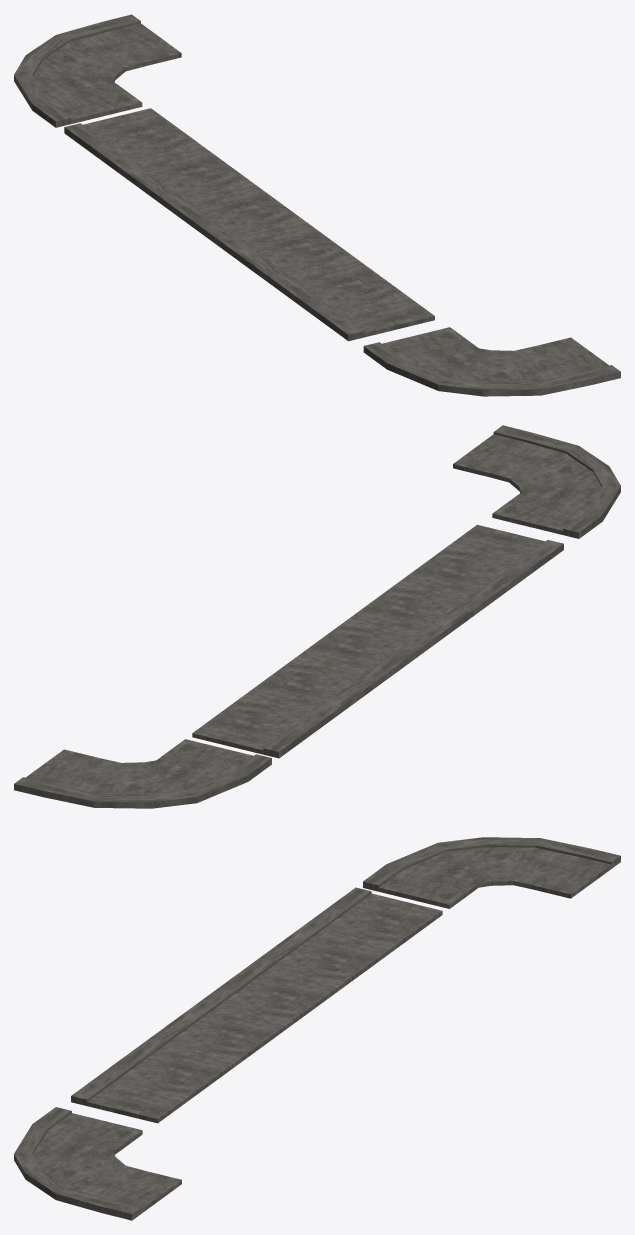
File: sidewalksFBX.fbx
3 renders of one model, top to bottom at view 1: azimuth 30°, elevation 25°; view 2: azimuth 150°, elevation 25°; view 3: azimuth 330°, elevation 25°, orthographic.
Visible parts, largest first — view 1: straight, left, right; view 2: straight, right, left; view 3: straight, right, left.
Boxes of the visible parts, box(x1,y1,x2,y2) form: straight: box(64, 108, 434, 341); left: box(363, 327, 620, 396); right: box(14, 14, 181, 127); straight: box(192, 524, 563, 758); right: box(14, 739, 271, 808); left: box(453, 425, 620, 538); straight: box(71, 887, 442, 1123); right: box(363, 837, 620, 908); left: box(14, 1107, 181, 1220).
Bounding box in the file's own units: 475 × 17.34 × 2398.
Materials: 1 (1 with a texture image).
